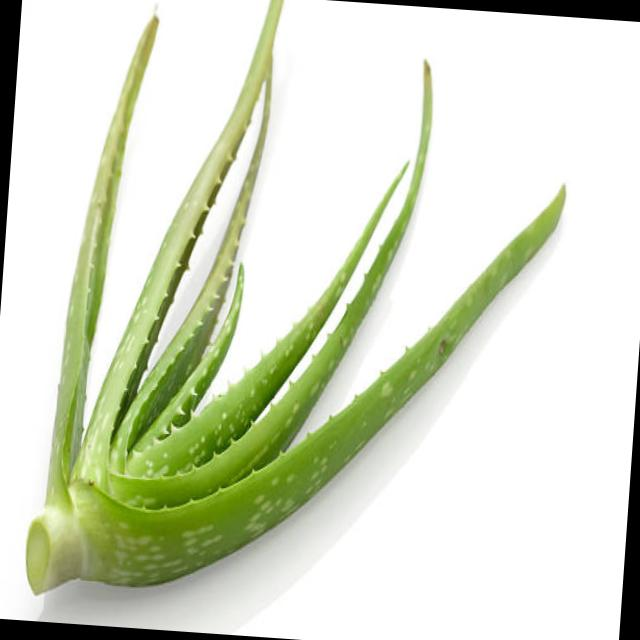AloeVera: (27, 84, 590, 607)
